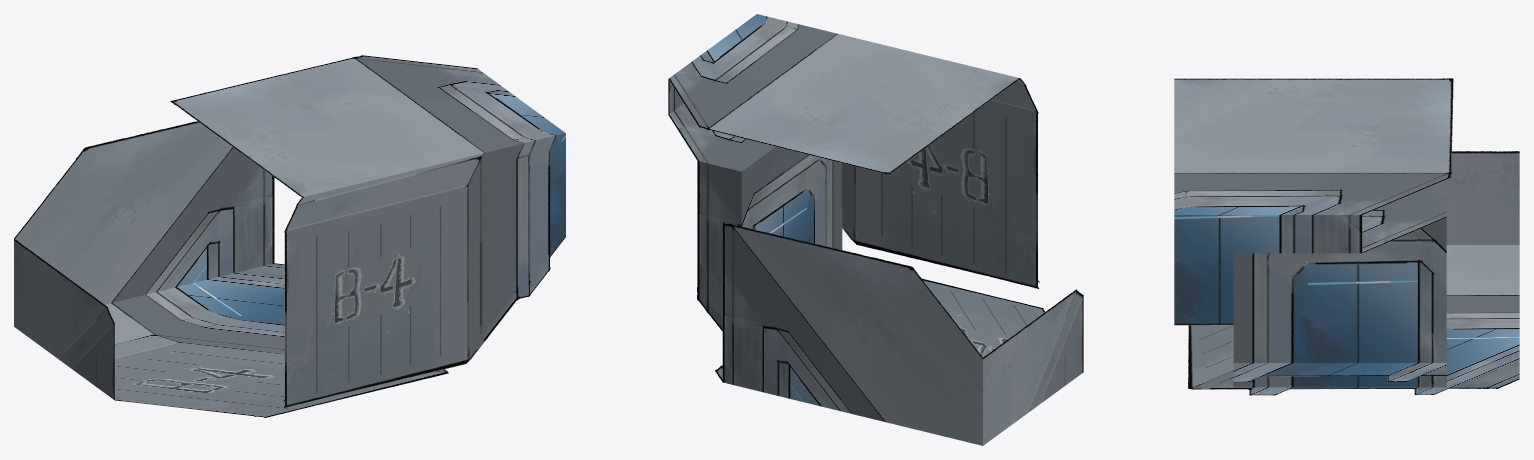
File: B-4build4.fbx
3 renders of one model, left to right at view 1: azimuth 30°, elevation 25°; view 2: azimuth 150°, elevation 25°; view 3: azimuth 270°, elevation 25°, orthographic. The views are drawn at different scales.
Visible parts, largest first — view 1: 立方体; view 2: 立方体; view 3: 立方体.
Part boxes in pixels (left/top/right/bottom): 立方体: left=14, top=55, right=565, bottom=417; 立方体: left=668, top=14, right=1083, bottom=445; 立方体: left=1174, top=78, right=1519, bottom=395.
Size of the model in its own units: 2192 by 1174 by 1589.
